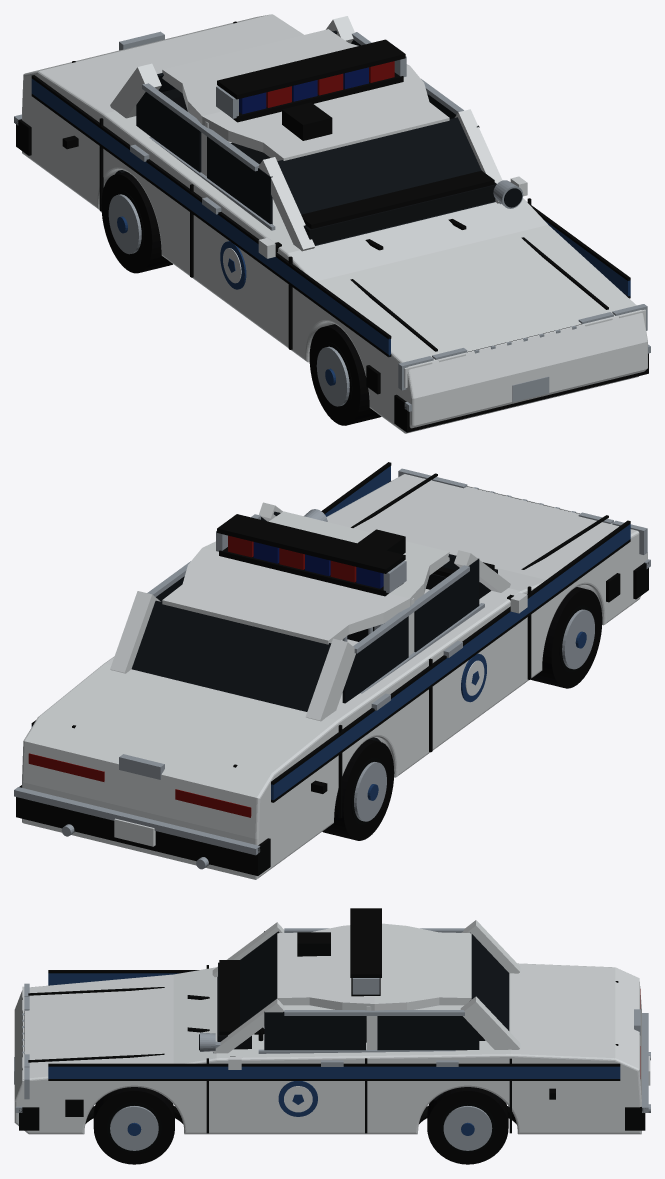
File: PoliceCruiser1991.obj
3 views of the same model, one above another, from view 1: azimuth 30°, elevation 25°; view 2: azimuth 150°, elevation 25°; view 3: azimuth 270°, elevation 25° (orthographic). The views are drawn at different scales.
Parts seen in each view (by area): view 1: PoliceCruiser1991; view 2: PoliceCruiser1991; view 3: PoliceCruiser1991.
Boxes of the visible parts, x1=… form: PoliceCruiser1991: x1=14, y1=14, x2=650, y2=433; PoliceCruiser1991: x1=14, y1=462, x2=650, y2=879; PoliceCruiser1991: x1=14, y1=908, x2=650, y2=1164.
Bounding box in the file's own units: 2.13 × 1.72 × 5.63.
